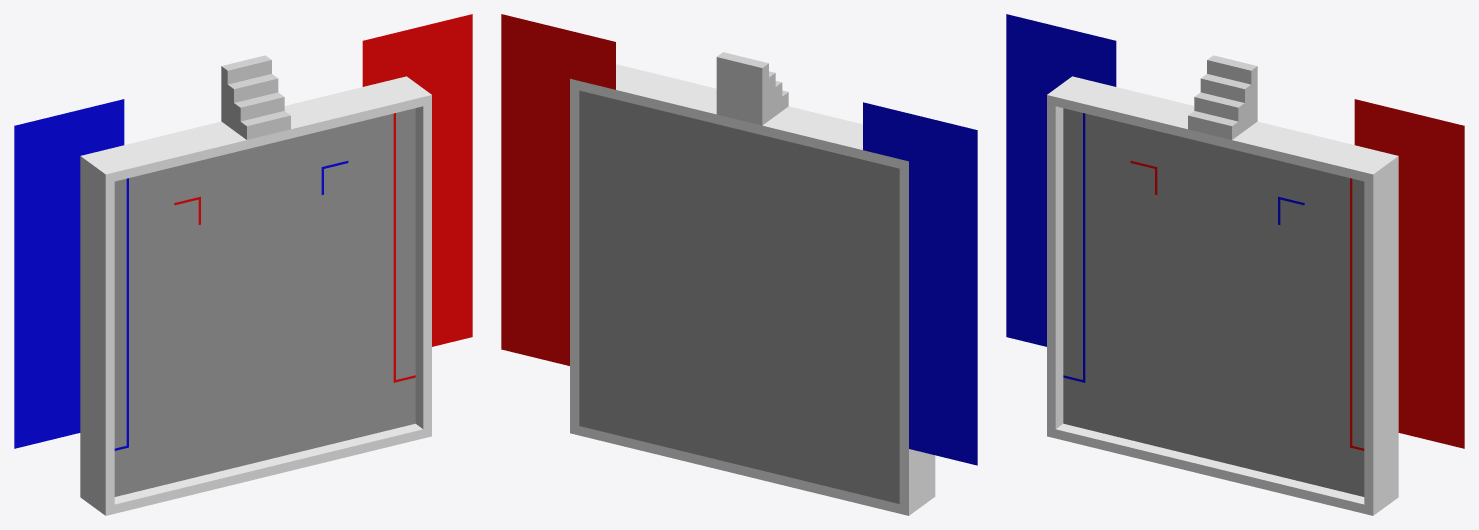
File: walls perimeter.fbx
3 views of the same model, side by side, from view 1: azimuth 30°, elevation 25°; view 2: azimuth 150°, elevation 25°; view 3: azimuth 330°, elevation 25° (orthographic). The views are drawn at different scales.
Parts seen in each view (by area): view 1: Body1 (×7); view 2: Body1 (×5); view 3: Body1 (×7).
Part boxes in pixels (x1=…): Body1 (×7): x1=14, y1=14, x2=472, y2=515; Body1 (×5): x1=501, y1=14, x2=977, y2=515; Body1 (×7): x1=1006, y1=14, x2=1464, y2=515.
Size of the model in its own units: 10.4 by 8.6 by 1.
